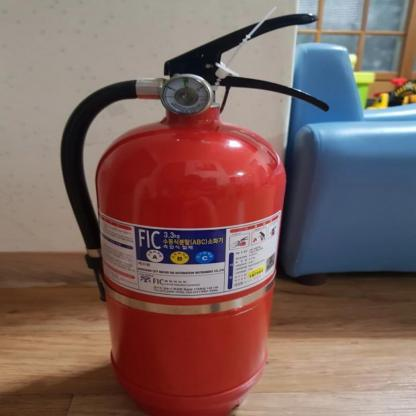Fire Extinguisher: (61, 6, 341, 416)
